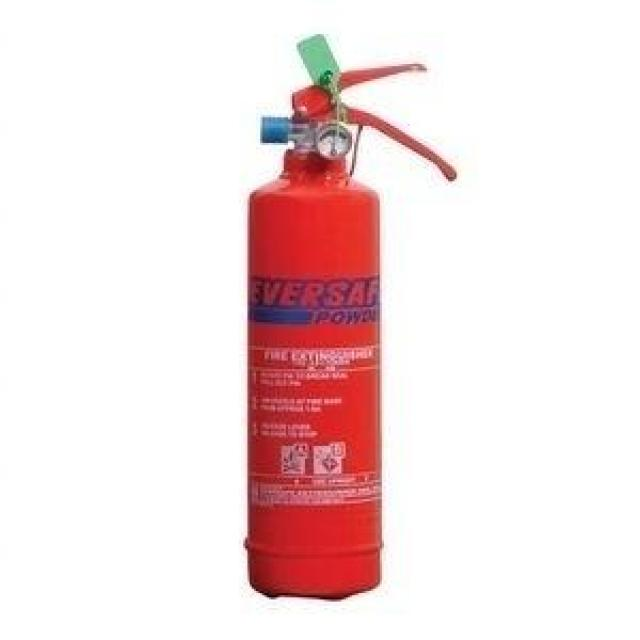fire_extinguisher: (238, 28, 457, 602)
